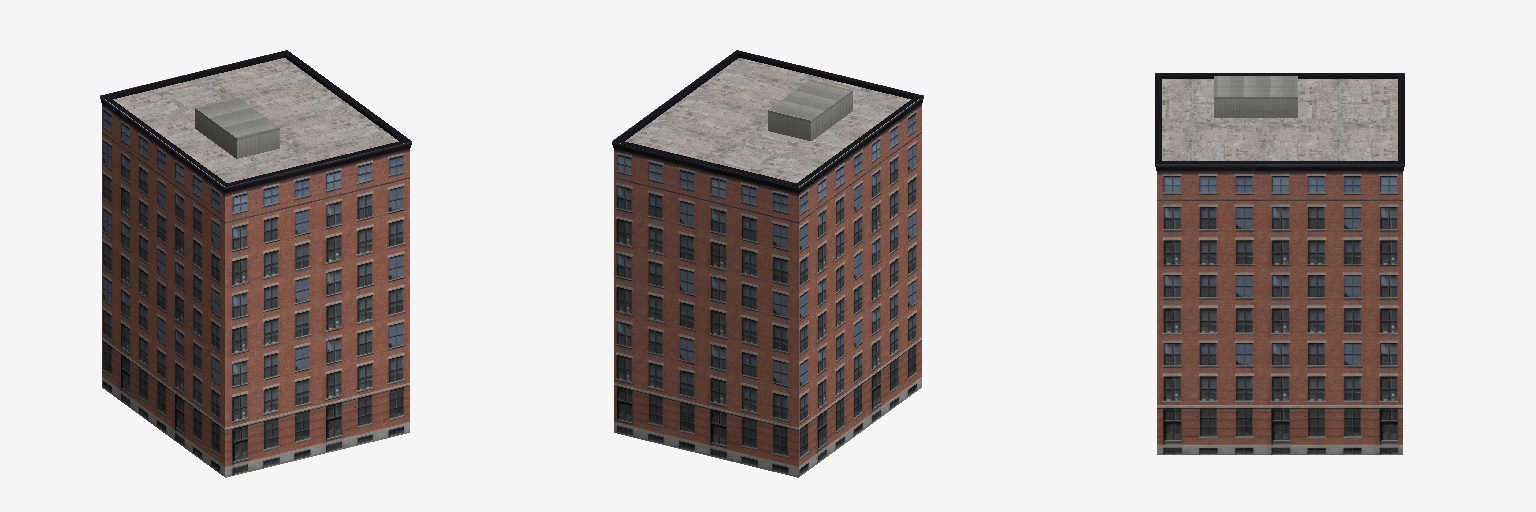
The picture shows the model from 3 angles: view 1: azimuth 30°, elevation 25°; view 2: azimuth 150°, elevation 25°; view 3: azimuth 270°, elevation 25°; orthographic projection.
Parts seen in each view (by area): view 1: building_12; view 2: building_12; view 3: building_12.
Boxes of the visible parts, <box> form: building_12: <box>100,50,411,477</box>; building_12: <box>612,50,923,477</box>; building_12: <box>1155,73,1404,454</box>.
Size of the model in its own units: 59.05 by 92.87 by 68.2.
Materials: 1 (1 with a texture image).